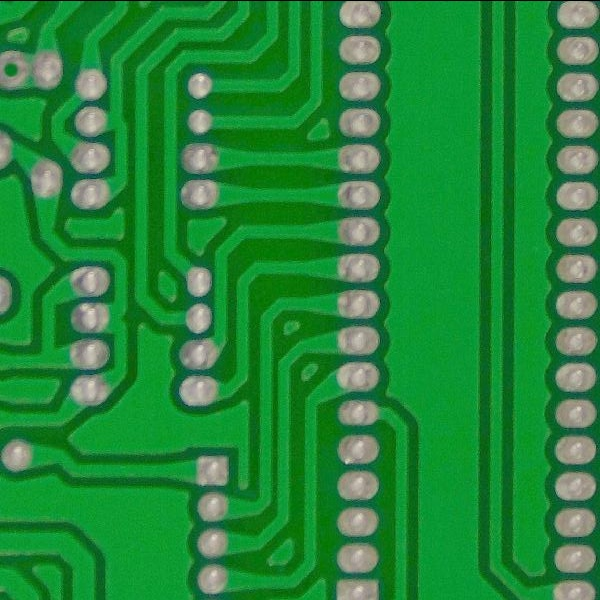missing_hole: (1, 47, 36, 91)
